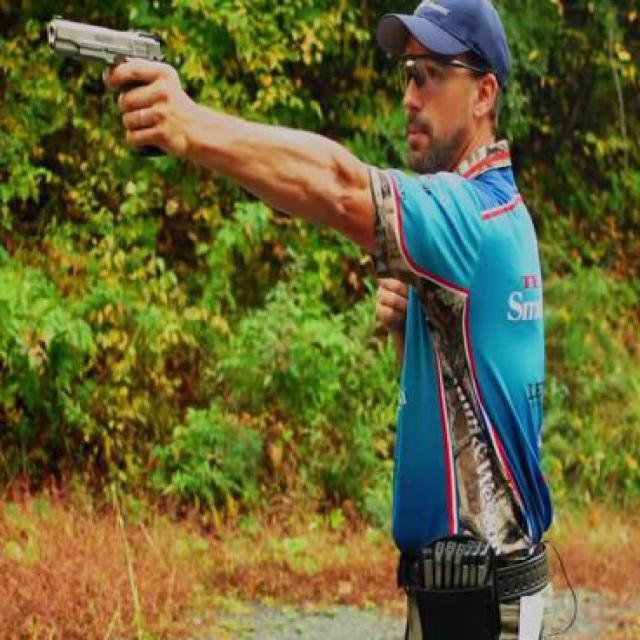weapon: (45, 16, 174, 158)
